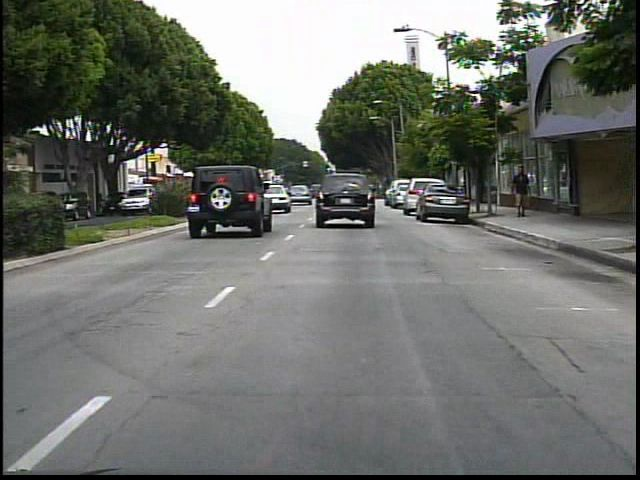person: (508, 164, 533, 222)
